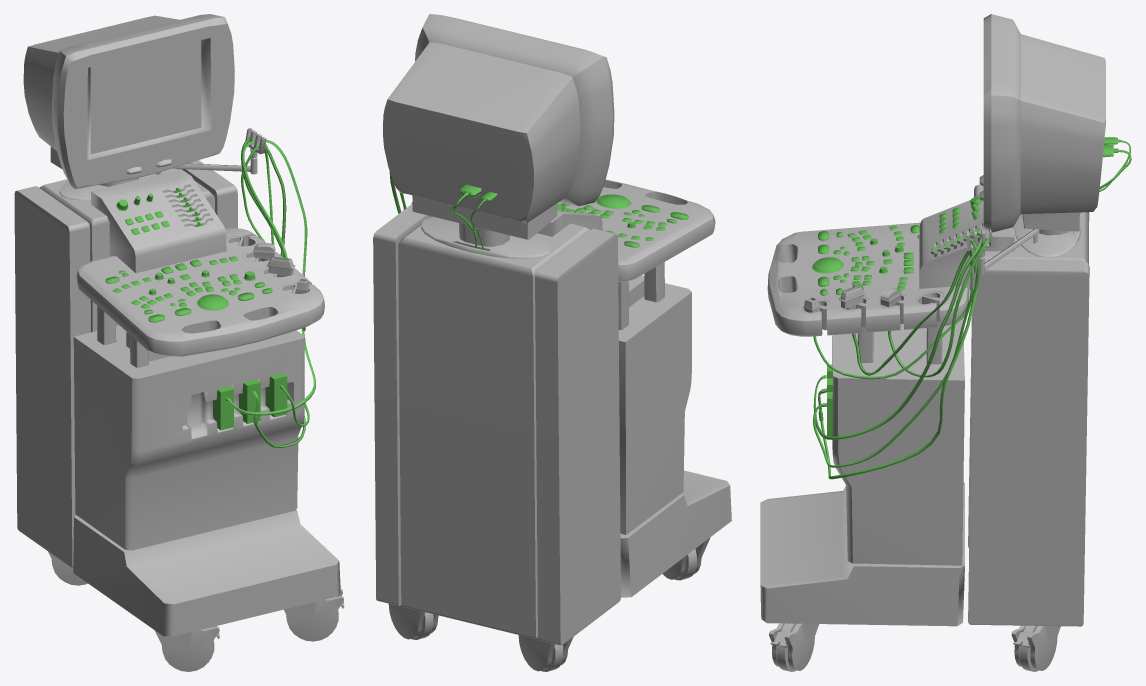
The model's file is SM_UltrasoundMachine_01a.FBX.
3 renders of one model, left to right at view 1: azimuth 30°, elevation 25°; view 2: azimuth 150°, elevation 25°; view 3: azimuth 270°, elevation 25°, orthographic. The views are drawn at different scales.
Parts seen in each view (by area): view 1: SM_UltrasoundMachine_01a_LOD0; view 2: SM_UltrasoundMachine_01a_LOD0; view 3: SM_UltrasoundMachine_01a_LOD0.
Part boxes in pixels (<box>): SM_UltrasoundMachine_01a_LOD0: <box>14,14,344,671</box>; SM_UltrasoundMachine_01a_LOD0: <box>373,14,731,671</box>; SM_UltrasoundMachine_01a_LOD0: <box>760,14,1131,671</box>.
Size of what is drawn, in the model's own units: 64.19 by 150 by 87.15.
